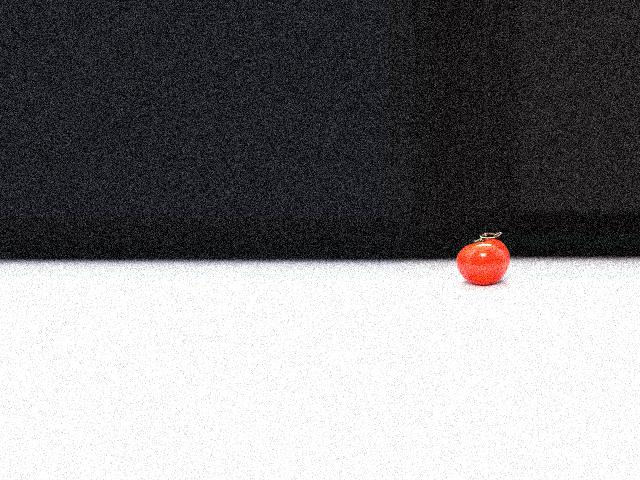tomato: (455, 238, 509, 285)
